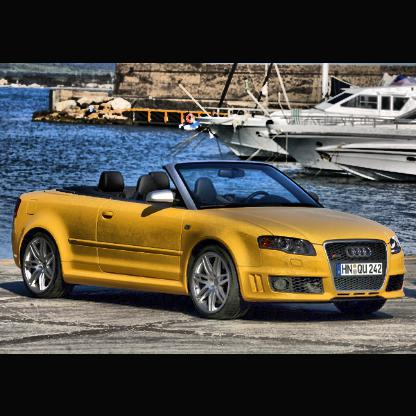Audi RS 4 Convertible 2008: (14, 161, 407, 320)
